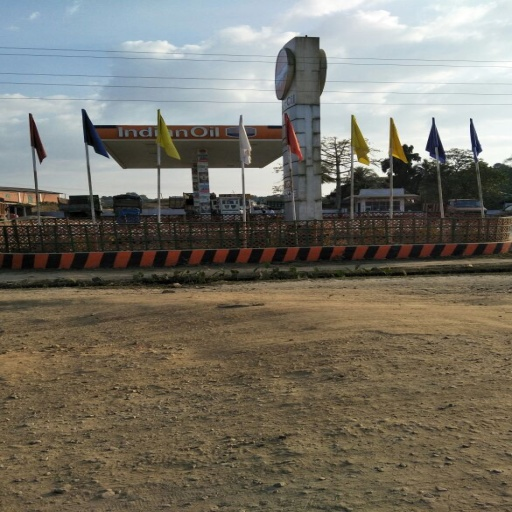roof: (89, 120, 286, 170)
